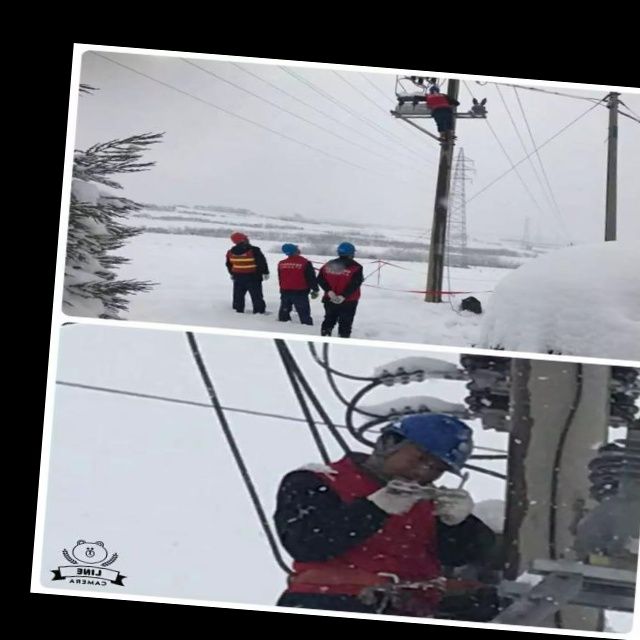Con_Casco: (371, 409, 476, 485)
Con_Chaleco: (224, 244, 266, 279)
